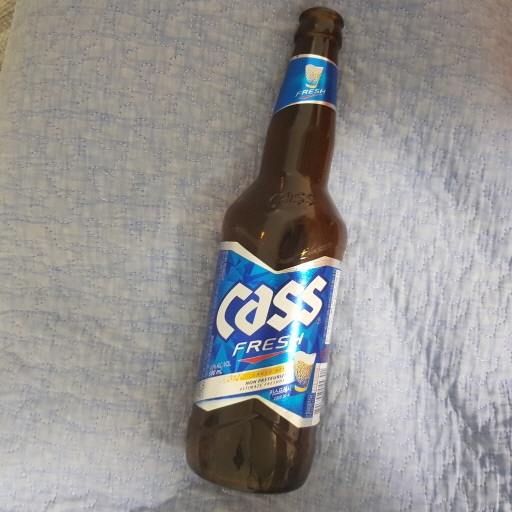Glass_1: (185, 4, 352, 494)
